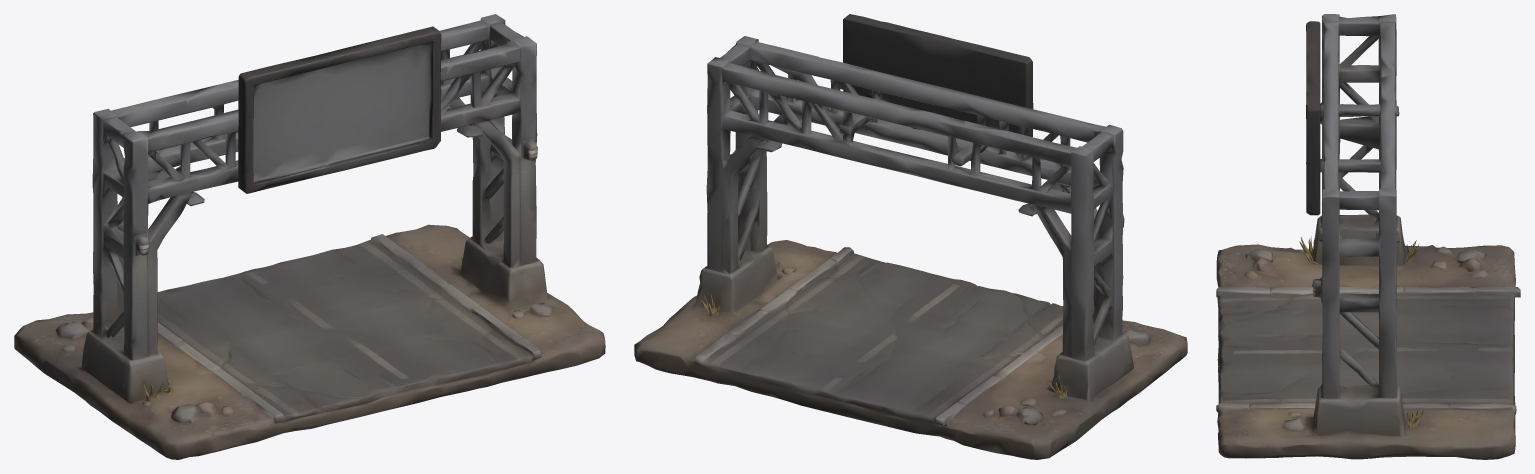
Rendered from gantry_city_gate.glb.
The picture shows the model from 3 angles, left to right: view 1: azimuth 30°, elevation 25°; view 2: azimuth 150°, elevation 25°; view 3: azimuth 270°, elevation 25°; orthographic projection. The views are drawn at different scales.
Parts seen in each view (by area): view 1: tripo_node_c58e106f-e266-42f9-9331-93de4cc02c94; view 2: tripo_node_c58e106f-e266-42f9-9331-93de4cc02c94; view 3: tripo_node_c58e106f-e266-42f9-9331-93de4cc02c94.
Part boxes in pixels (x1,y1,x2,y2): tripo_node_c58e106f-e266-42f9-9331-93de4cc02c94: [14, 14, 605, 459]; tripo_node_c58e106f-e266-42f9-9331-93de4cc02c94: [634, 14, 1187, 459]; tripo_node_c58e106f-e266-42f9-9331-93de4cc02c94: [1216, 14, 1520, 459].
Bounding box in the file's own units: 1 × 0.6931 × 0.6416.
1 material, 1 textured.
